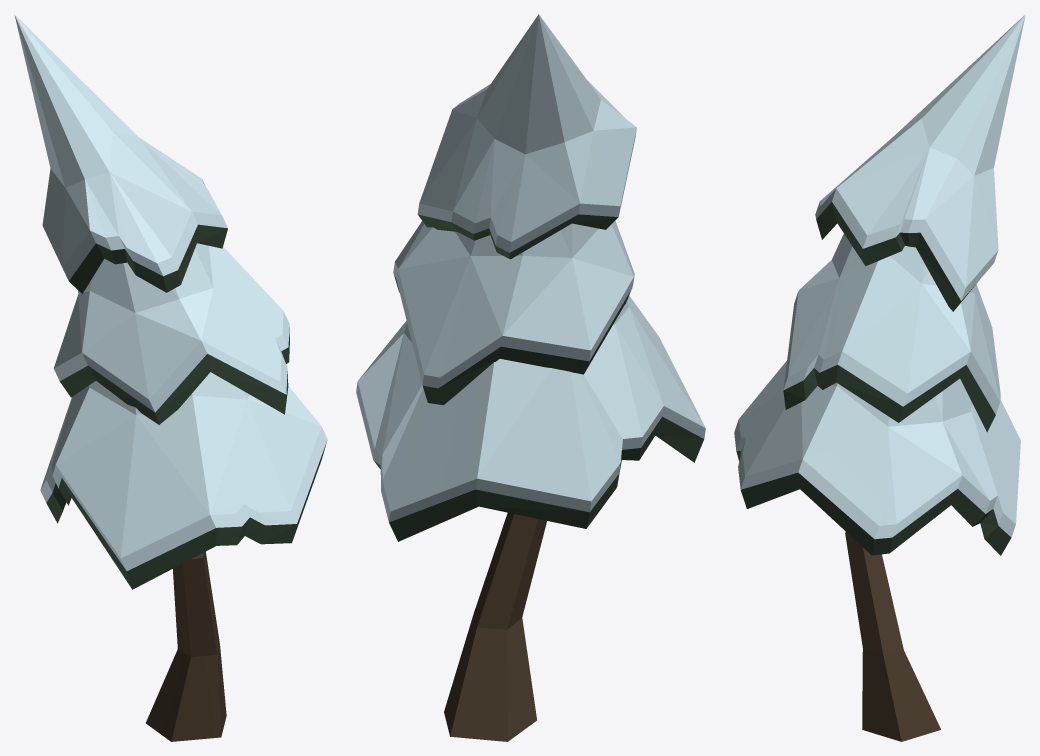
File: SM_Env_TreePine_02_Snow.gltf
3 views of the same model, side by side, from view 1: azimuth 30°, elevation 25°; view 2: azimuth 150°, elevation 25°; view 3: azimuth 270°, elevation 25° (orthographic). The views are drawn at different scales.
Visible parts, largest first — view 1: SM_Env_TreePine_02_Snow; view 2: SM_Env_TreePine_02_Snow; view 3: SM_Env_TreePine_02_Snow.
Part boxes in pixels (x1=…): SM_Env_TreePine_02_Snow: x1=14, y1=14, x2=327, y2=741; SM_Env_TreePine_02_Snow: x1=356, y1=14, x2=705, y2=741; SM_Env_TreePine_02_Snow: x1=734, y1=14, x2=1025, y2=741.
Size of the model in its own units: 2.27 by 5.74 by 2.3.
Materials: 1 (1 with a texture image).
